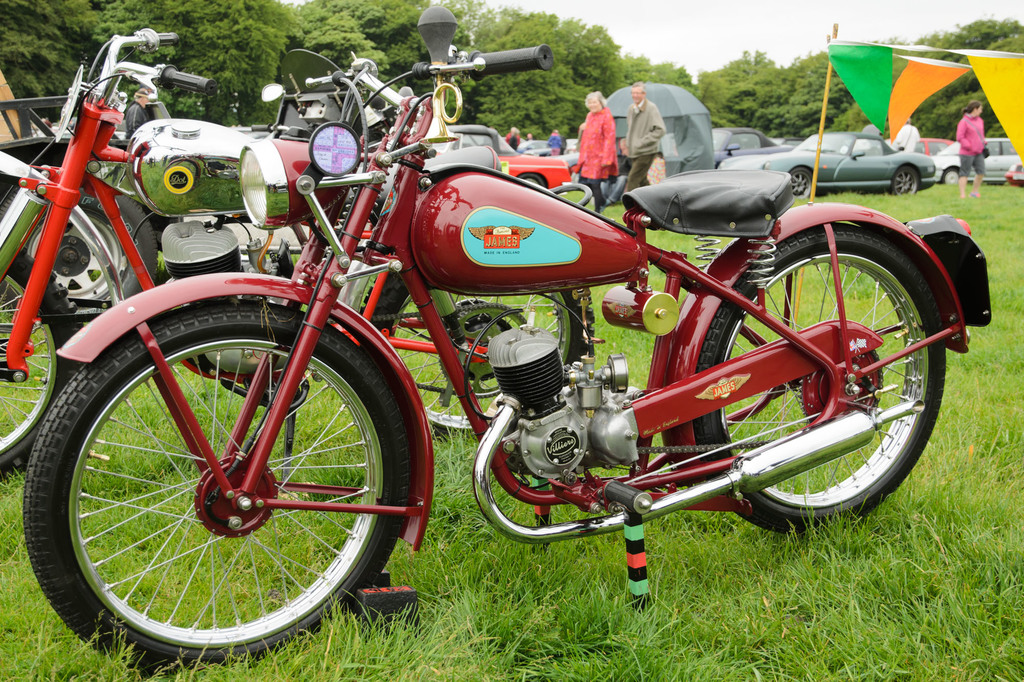cars: (717, 130, 934, 194), (441, 121, 573, 193), (927, 134, 1023, 188)
